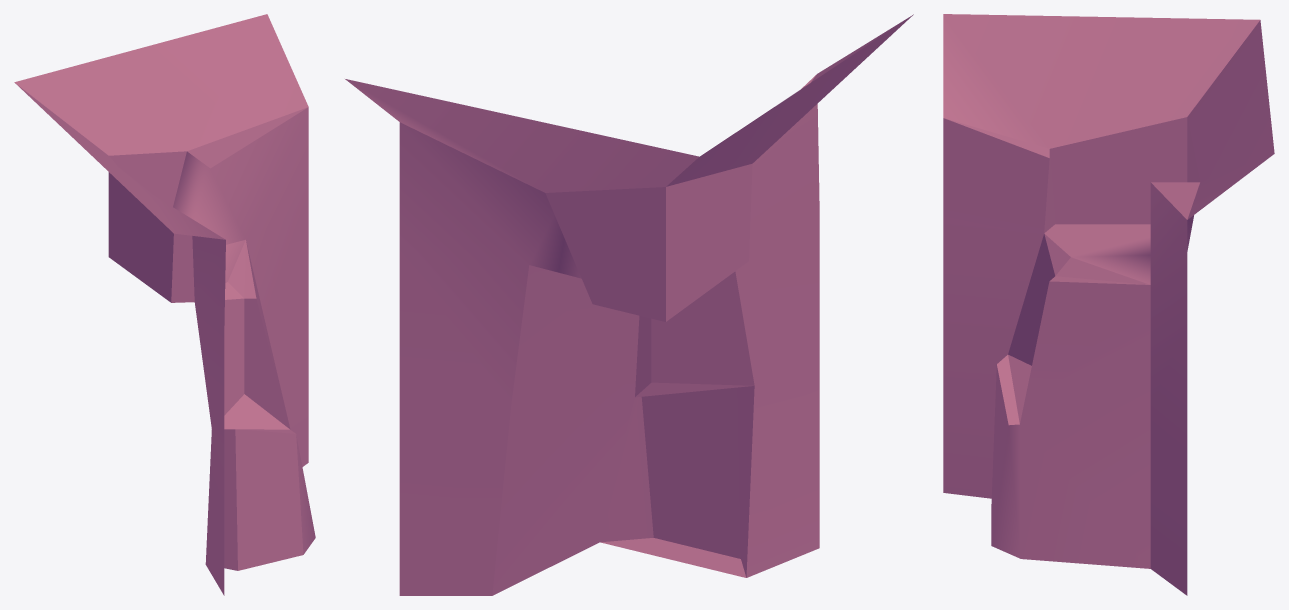
File: Module_Corner_IN_Mesh_v01_Wall.fbx
The picture shows the model from 3 angles, left to right: view 1: azimuth 30°, elevation 25°; view 2: azimuth 150°, elevation 25°; view 3: azimuth 270°, elevation 25°; orthographic projection. The views are drawn at different scales.
Visible parts, largest first — view 1: Module_Corner_IN_Mesh_v01_Wall; view 2: Module_Corner_IN_Mesh_v01_Wall; view 3: Module_Corner_IN_Mesh_v01_Wall.
Part boxes in pixels (x1,y1,x2,y2): Module_Corner_IN_Mesh_v01_Wall: [14, 14, 315, 595]; Module_Corner_IN_Mesh_v01_Wall: [345, 14, 913, 595]; Module_Corner_IN_Mesh_v01_Wall: [943, 14, 1274, 595].
Bounding box in the file's own units: 271 × 400 × 272.
